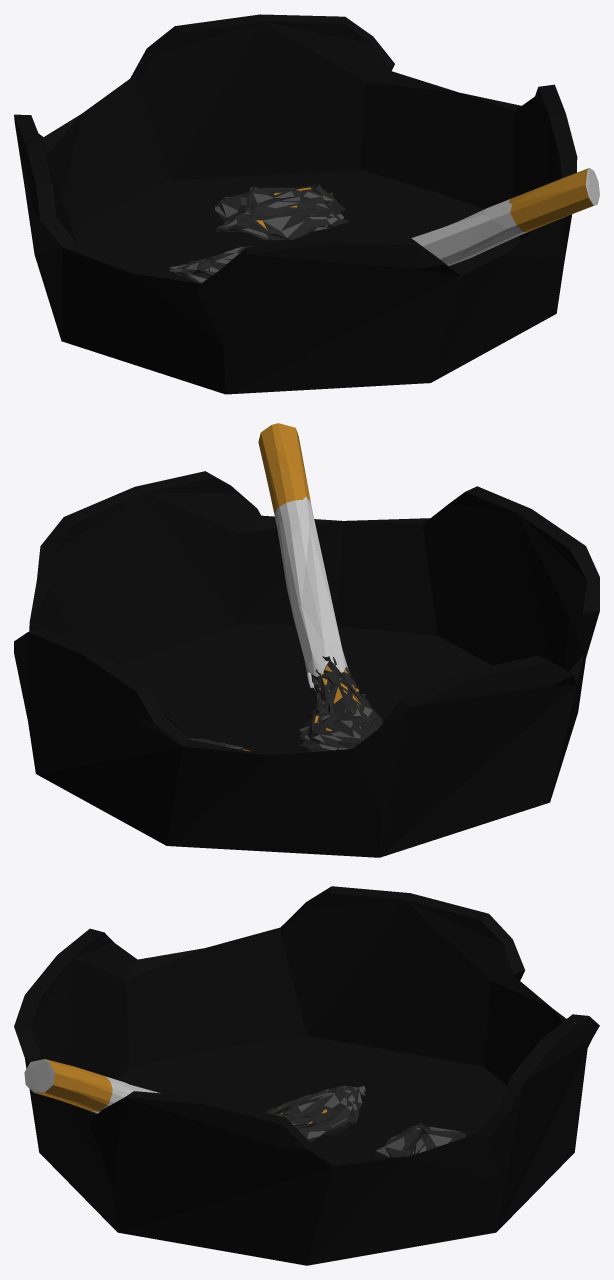
Rendered from Cigarro.FBX.
3 views of the same model, one above another, from view 1: azimuth 30°, elevation 25°; view 2: azimuth 150°, elevation 25°; view 3: azimuth 270°, elevation 25° (orthographic). The views are drawn at different scales.
Visible parts, largest first — view 1: Box001; view 2: Box001; view 3: Box001.
Part boxes in pixels (x1=…): Box001: x1=14, y1=14, x2=599, y2=394; Box001: x1=14, y1=423, x2=599, y2=857; Box001: x1=14, y1=886, x2=599, y2=1265.
Bounding box in the file's own units: 7.95 × 2.62 × 7.95.
